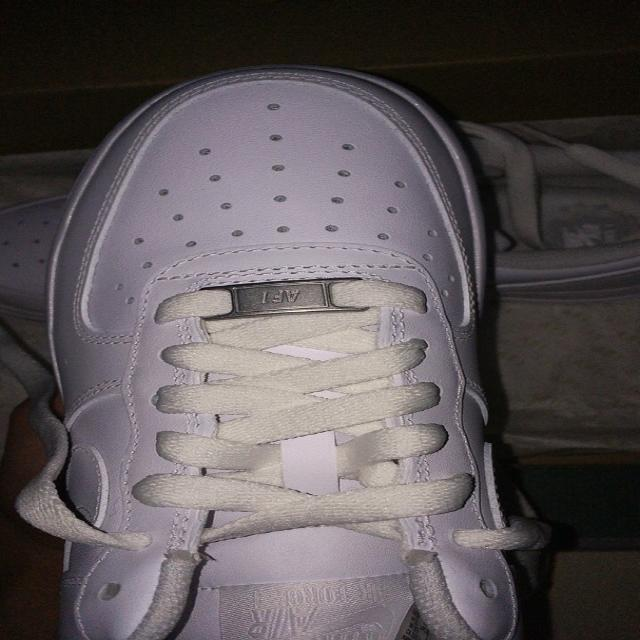nike original air force: (31, 63, 535, 640)
